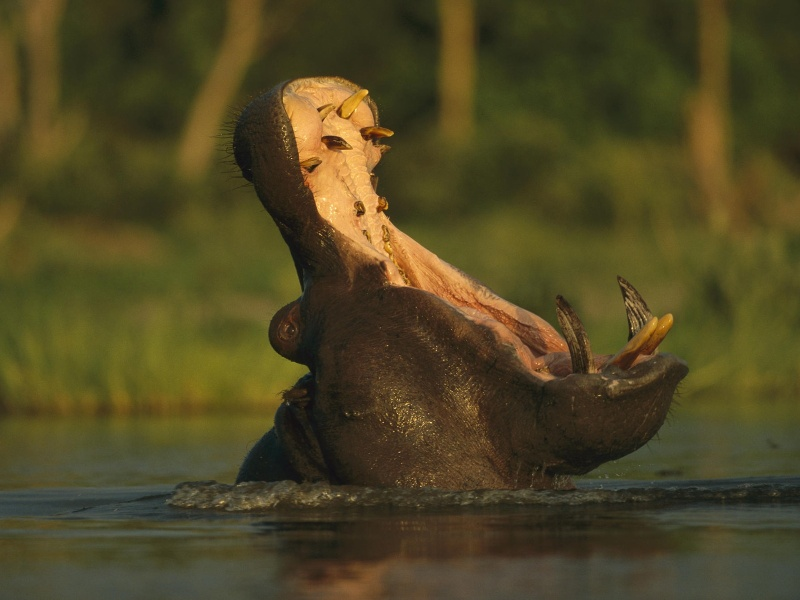hipopotamo: (214, 66, 701, 522)
